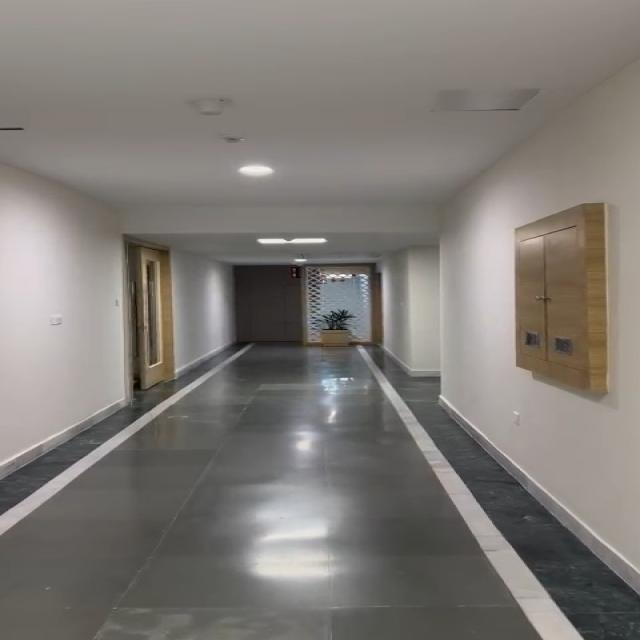door: (99, 228, 198, 395)
floor: (16, 456, 582, 640), (192, 351, 434, 452)
furniture: (294, 293, 366, 353)
wall: (0, 172, 127, 432), (384, 218, 507, 398), (592, 100, 640, 522), (178, 254, 244, 350)
